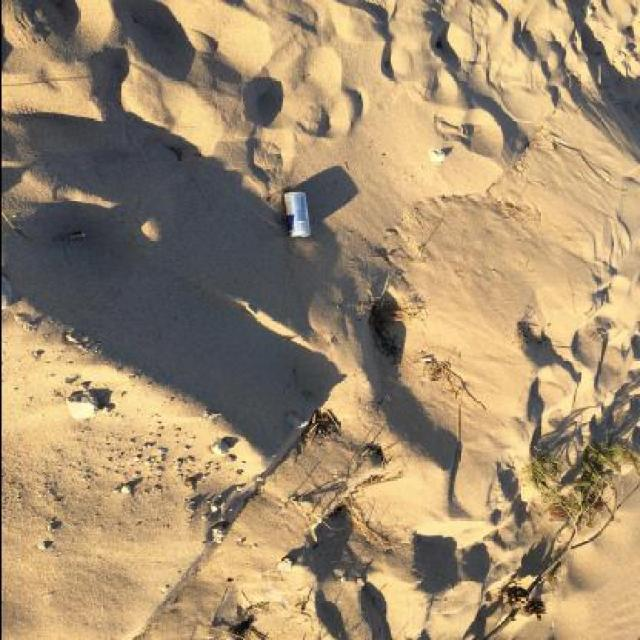metal: (282, 192, 310, 238)
